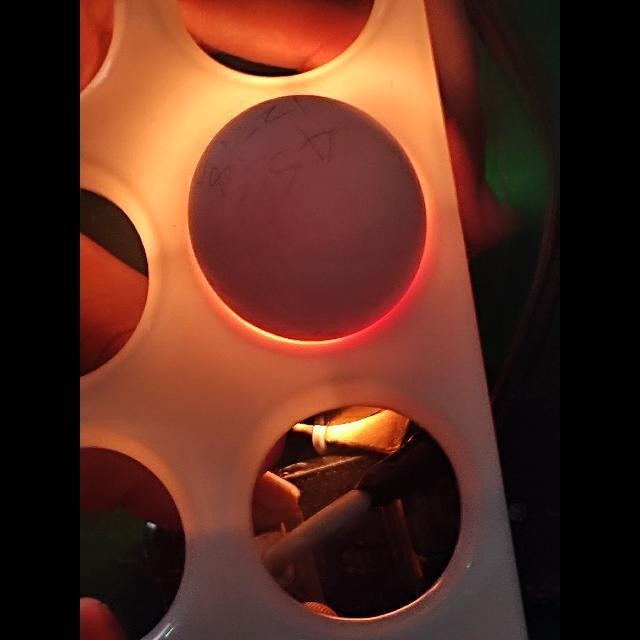A - Good: (184, 90, 439, 353)
